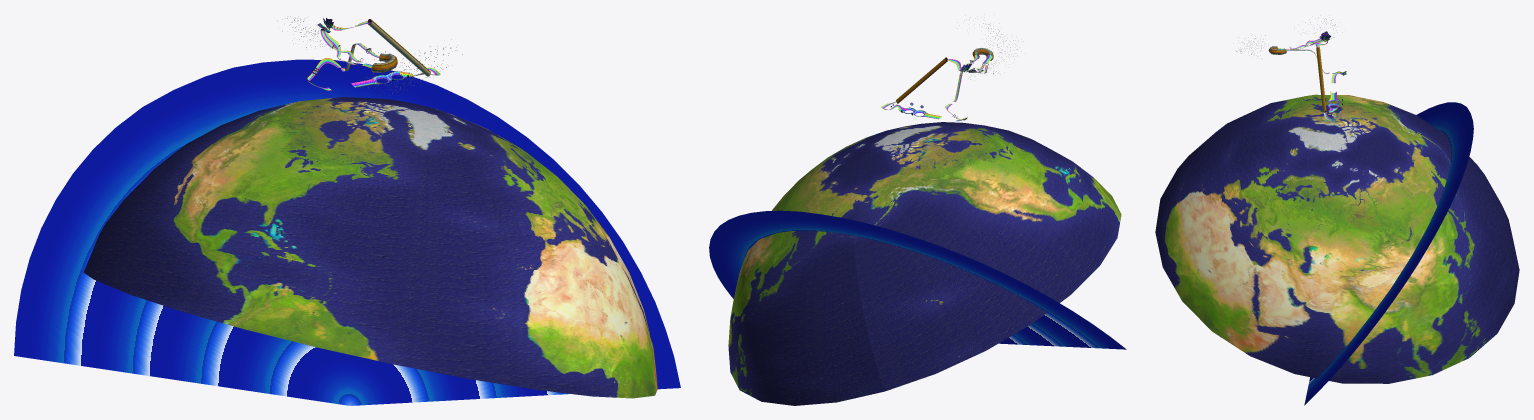
File: rainbowroad.FBX
3 views of the same model, side by side, from view 1: azimuth 30°, elevation 25°; view 2: azimuth 150°, elevation 25°; view 3: azimuth 270°, elevation 25° (orthographic). The views are drawn at different scales.
Visible parts, largest first — view 1: course; view 2: course; view 3: course.
Part boxes in pixels (x1,y1,x2,y2): course: [14, 16, 680, 405]; course: [709, 17, 1126, 405]; course: [1155, 19, 1519, 405].
Bounding box in the file's own units: 10191 × 7172 × 8520.
18 materials, 18 textured.
